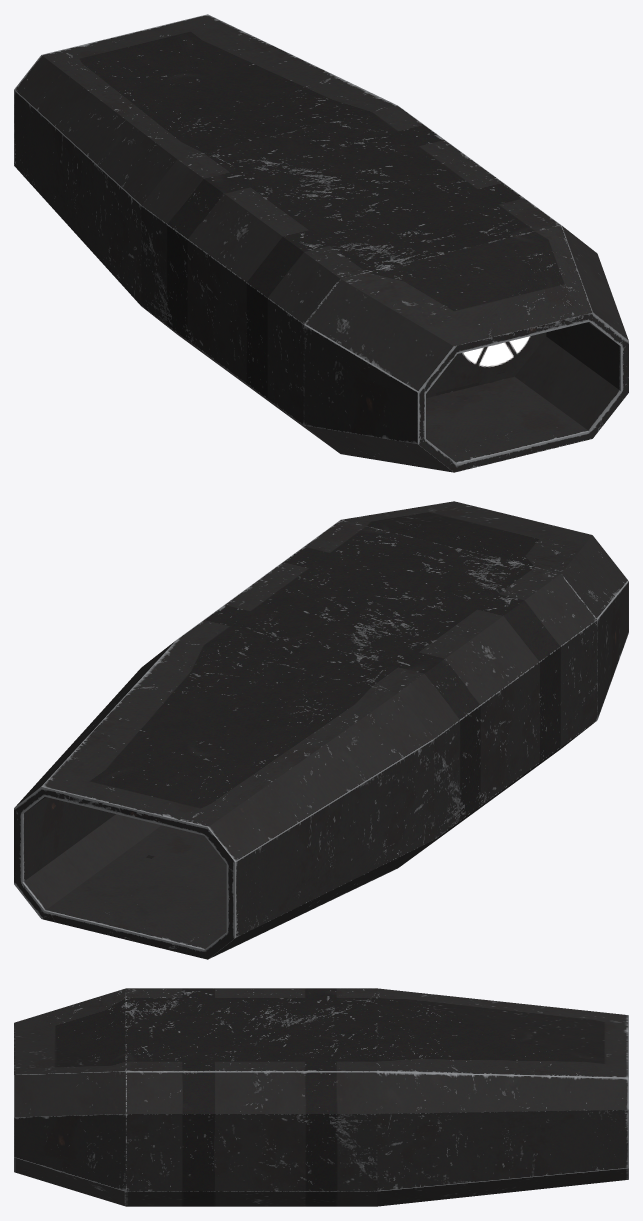
The model's file is thruster_l_3.fbx.
3 renders of one model, top to bottom at view 1: azimuth 30°, elevation 25°; view 2: azimuth 150°, elevation 25°; view 3: azimuth 270°, elevation 25°, orthographic. The views are drawn at different scales.
Parts seen in each view (by area): view 1: thruster_l_3; view 2: thruster_l_3; view 3: thruster_l_3.
Boxes of the visible parts, x1=… form: thruster_l_3: x1=14, y1=14, x2=628, y2=472; thruster_l_3: x1=14, y1=501, x2=628, y2=959; thruster_l_3: x1=14, y1=988, x2=628, y2=1206.
Size of the model in its own units: 14 by 8 by 33.
